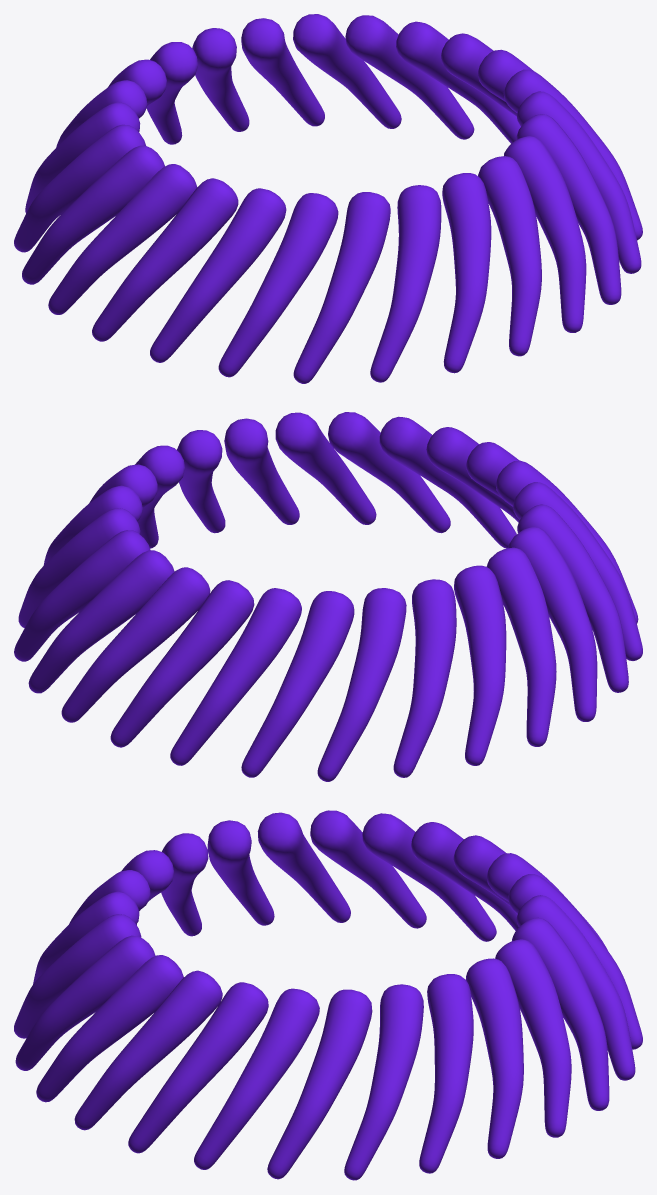
Rendered from Platform2.fbx.
3 views of the same model, one above another, from view 1: azimuth 30°, elevation 25°; view 2: azimuth 150°, elevation 25°; view 3: azimuth 270°, elevation 25° (orthographic).
Parts seen in each view (by area): view 1: Plane.005; view 2: Plane.005; view 3: Plane.005.
Boxes of the visible parts, left/top/right/bottom form: Plane.005: left=14, top=14, right=642, bottom=383; Plane.005: left=14, top=412, right=642, bottom=781; Plane.005: left=14, top=810, right=642, bottom=1180.
Bounding box in the file's own units: 224 × 58.74 × 224.
